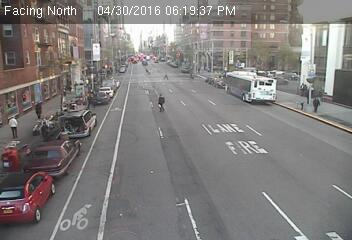neg: (23, 37, 47, 69), (89, 156, 113, 188), (50, 2, 71, 29), (228, 24, 248, 51), (117, 165, 137, 192), (55, 155, 74, 181), (28, 168, 47, 193), (267, 58, 285, 83), (196, 93, 213, 115), (239, 80, 255, 102), (152, 175, 168, 196), (188, 183, 204, 204), (233, 128, 248, 148), (105, 117, 120, 136), (311, 152, 324, 171), (176, 17, 189, 33), (105, 76, 117, 93), (275, 154, 287, 171), (69, 105, 81, 121), (129, 18, 141, 34), (302, 42, 313, 58), (69, 68, 80, 83), (193, 151, 203, 165), (159, 134, 169, 147), (14, 79, 19, 87)
pos: (151, 86, 170, 112), (306, 92, 324, 116), (3, 112, 20, 135), (29, 99, 44, 120), (159, 70, 172, 86), (186, 69, 197, 84)
